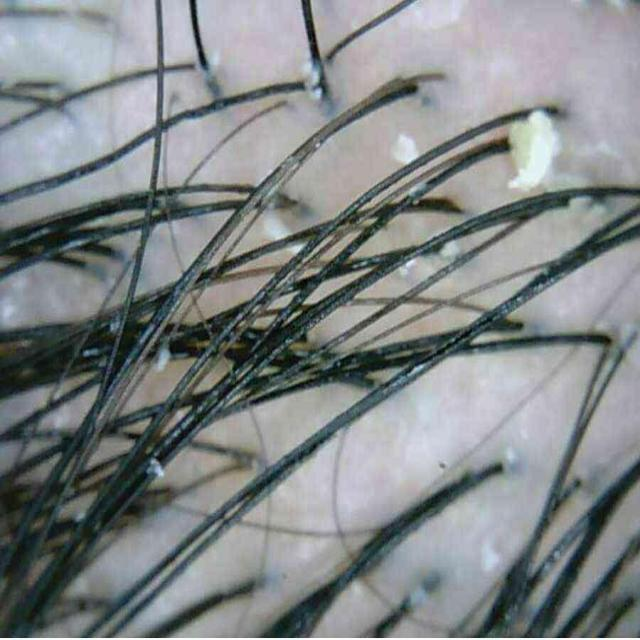d: (505, 106, 565, 195), (388, 131, 422, 167), (261, 211, 290, 241), (155, 344, 171, 372), (440, 241, 460, 260), (148, 460, 165, 477)
